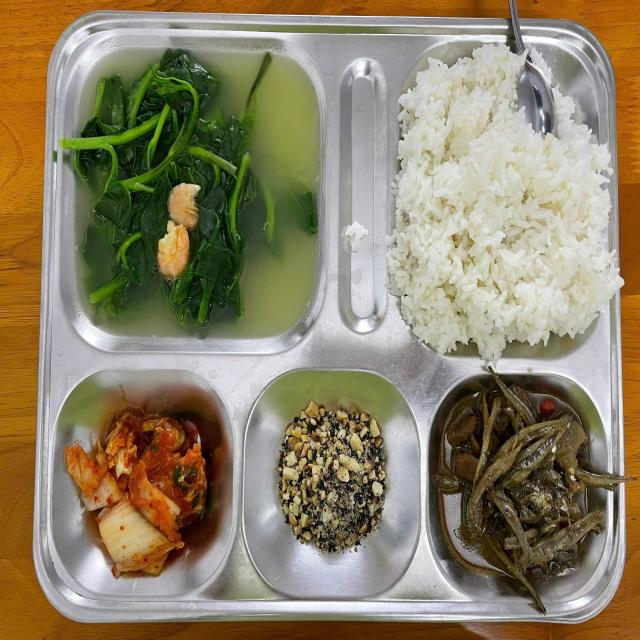caichua: (449, 382, 598, 607)
canhrau: (78, 66, 310, 324)
kimchi: (72, 403, 210, 579)
salad: (410, 73, 604, 350)
xucxichchien: (274, 398, 395, 564)
